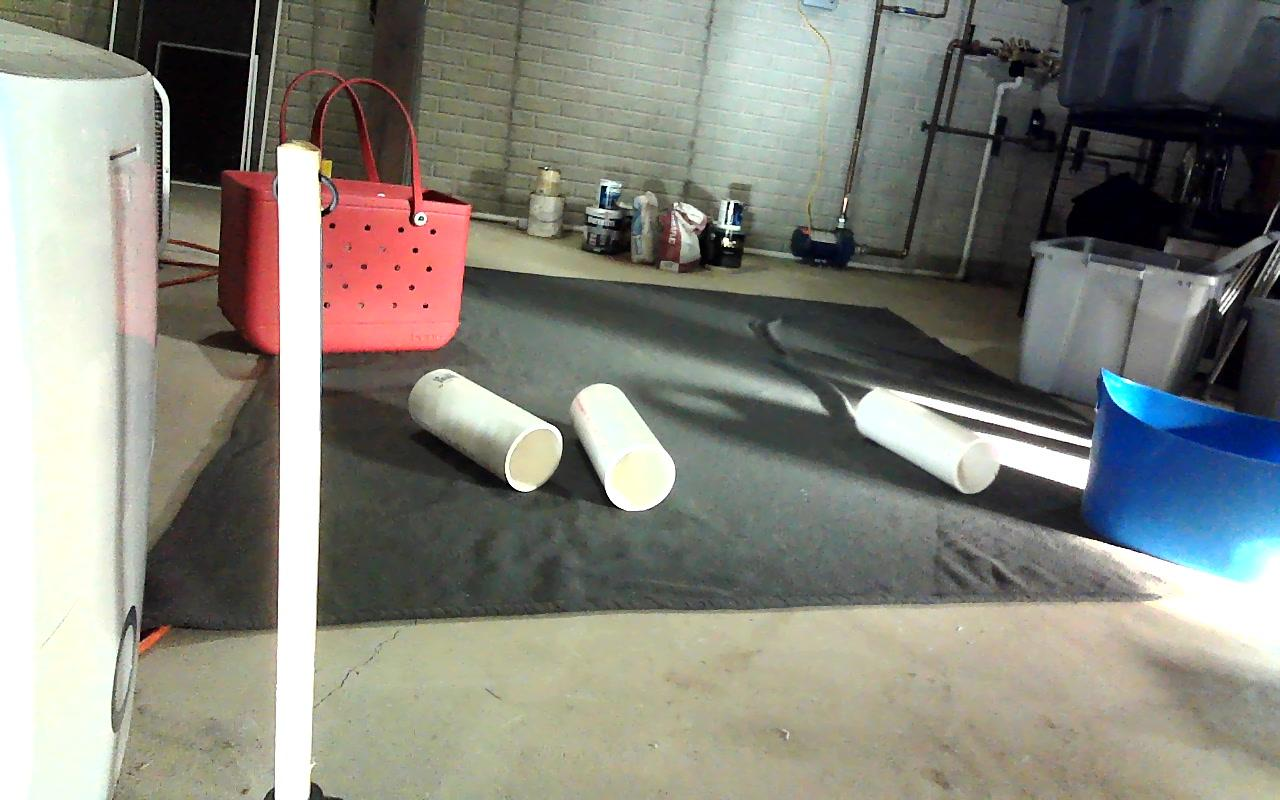coral: (407, 369, 564, 490), (853, 387, 998, 492), (571, 383, 675, 509)
